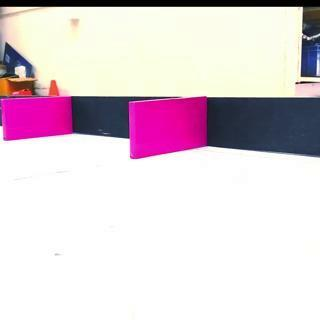xparking: (130, 100, 207, 156), (1, 98, 72, 136)
